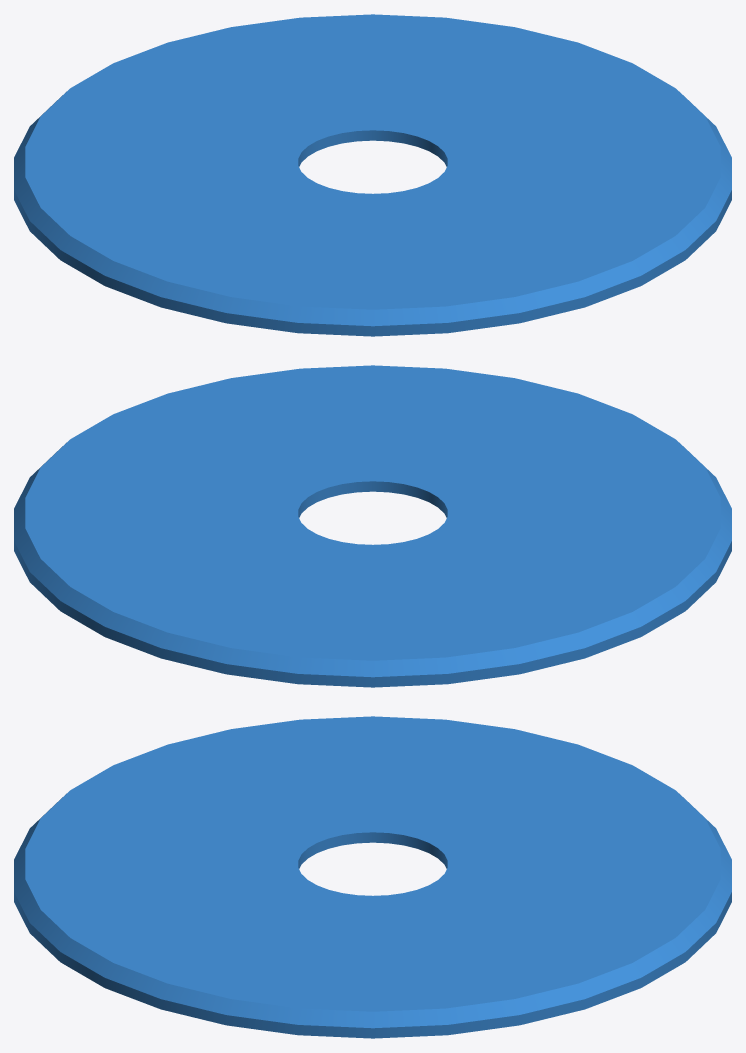
File: Ground - Ice (Outside).FBX
The picture shows the model from 3 angles, top to bottom: view 1: azimuth 30°, elevation 25°; view 2: azimuth 150°, elevation 25°; view 3: azimuth 270°, elevation 25°; orthographic projection.
Parts seen in each view (by area): view 1: Cylinder003; view 2: Cylinder003; view 3: Cylinder003.
Part boxes in pixels (x1,y1,x2,y2): Cylinder003: (14, 14, 731, 336); Cylinder003: (14, 365, 731, 687); Cylinder003: (14, 716, 731, 1038).
Bounding box in the file's own units: 148 × 4.95 × 147.
